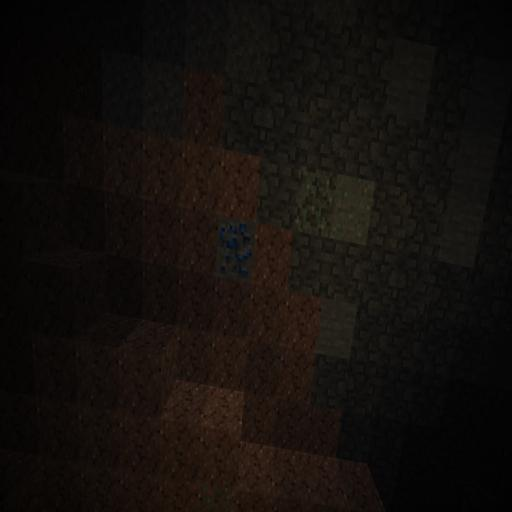lapis ore: (216, 212, 256, 283)
